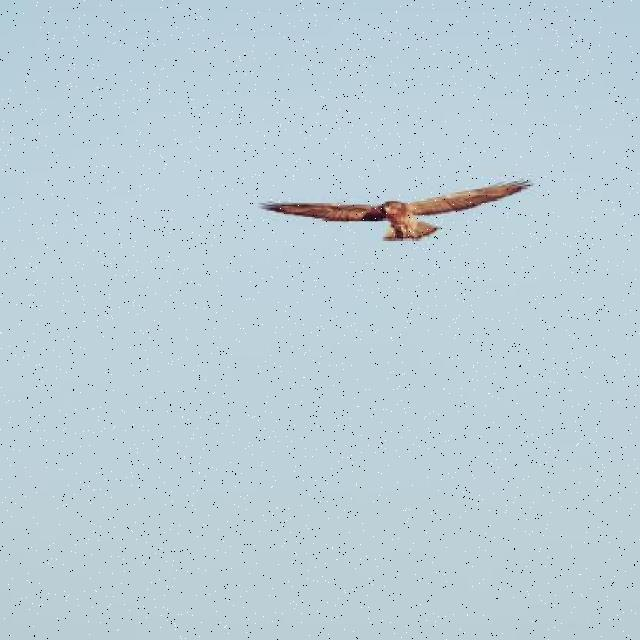bird: (258, 180, 534, 240)
